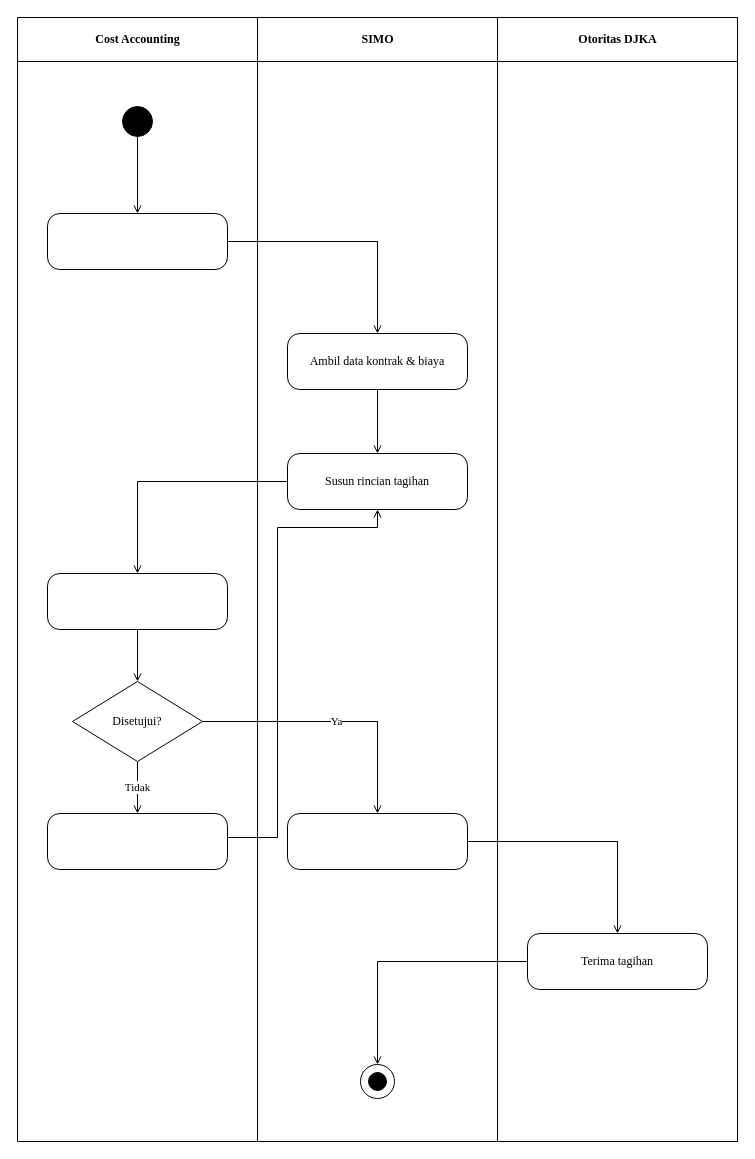
This 755x1159 diagram has some shape labels left out. The shapes that lost their labels are listed below. From the top down, each one's centre as x and y in pixels, then its label:
(x=137, y=241): Pilih hasil kalkulasi
(x=137, y=601): Tinjau & setujui draft
(x=137, y=841): Perbaiki draft
(x=377, y=841): Terbitkan & kirim tagihan
